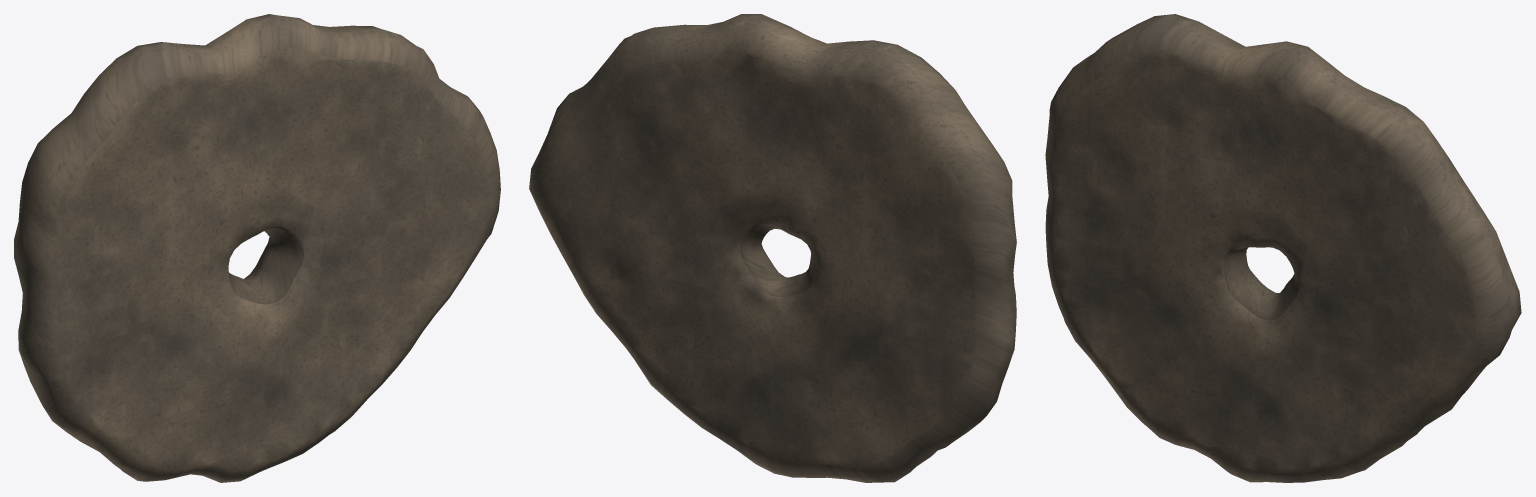
The model's file is coin_demon_stone.glb.
The picture shows the model from 3 angles, left to right: view 1: azimuth 30°, elevation 25°; view 2: azimuth 150°, elevation 25°; view 3: azimuth 330°, elevation 25°; orthographic projection. The views are drawn at different scales.
Parts seen in each view (by area): view 1: Stone; view 2: Stone; view 3: Stone.
Boxes of the visible parts, <box> form: Stone: <box>14,14,500,482</box>; Stone: <box>529,14,1016,482</box>; Stone: <box>1045,14,1521,482</box>.
Bounding box in the file's own units: 0.7605 × 0.685 × 0.0959.
Materials: 1 (1 with a texture image).
